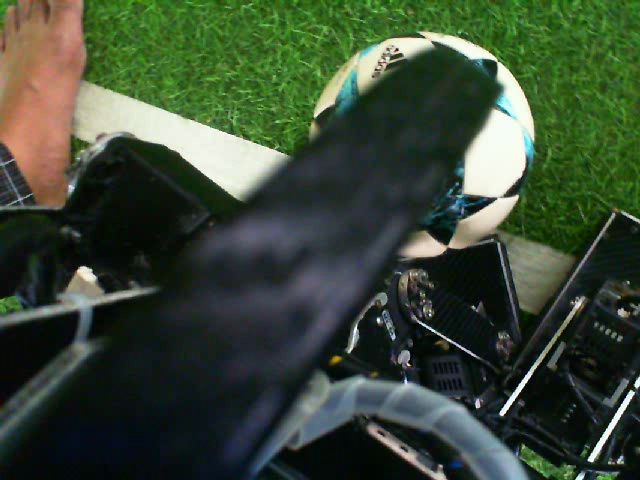ball: (389, 81, 539, 260)
